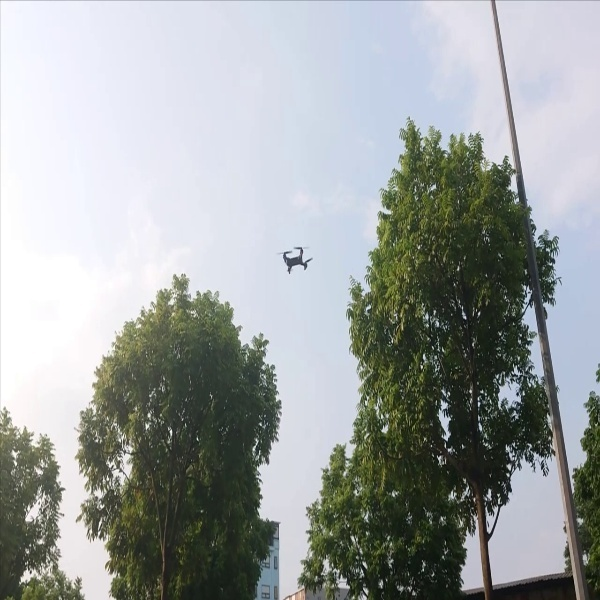drone: (276, 239, 316, 279)
